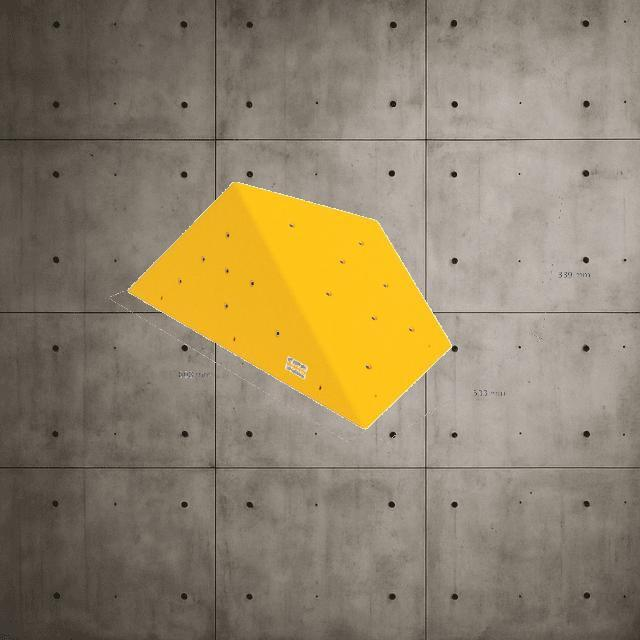Volume: (126, 180, 454, 432)
